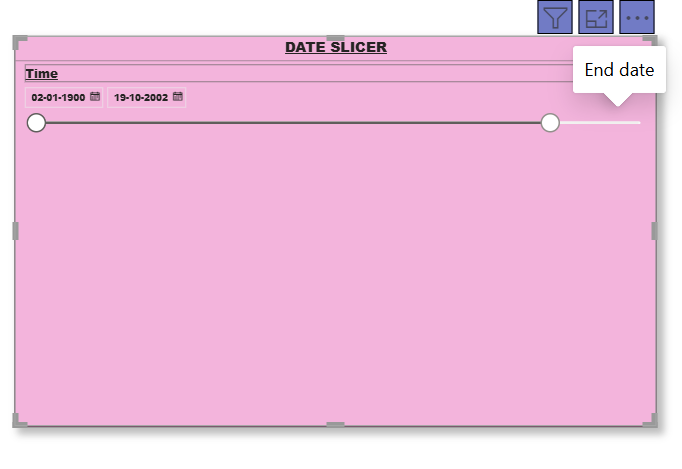

What the dashboard file says about the page in this screenshot:
{"tool":"powerbi","page":{"name":"Date Slicer","canvas":[1280,720],"ordinal":5},"visuals":[{"type":"slicer","title":"DATE SLICER","fields":{"Values":["Tweets.time"]},"box":[158.7,79.4,856.1,521.6],"z":0}]}

Visuals, with their boxes on the page's 1280x720 design canvas (x1, y1, x2, y2). These are canvas units, not pixel positions in the 682x469 screenshot, which may show the page scaled, cropped or inside an application window:
"DATE SLICER" slicer: pyautogui.locateOnScreen(159, 79, 1015, 601)
